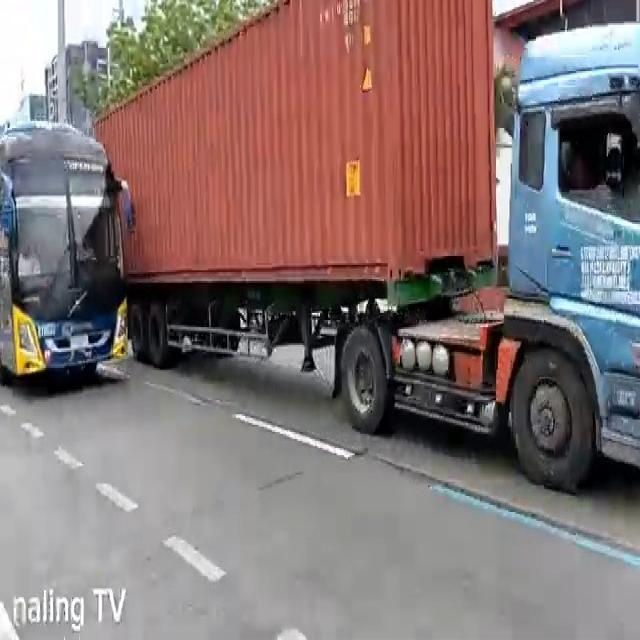bus: (0, 114, 131, 388)
truck: (89, 0, 640, 494)
